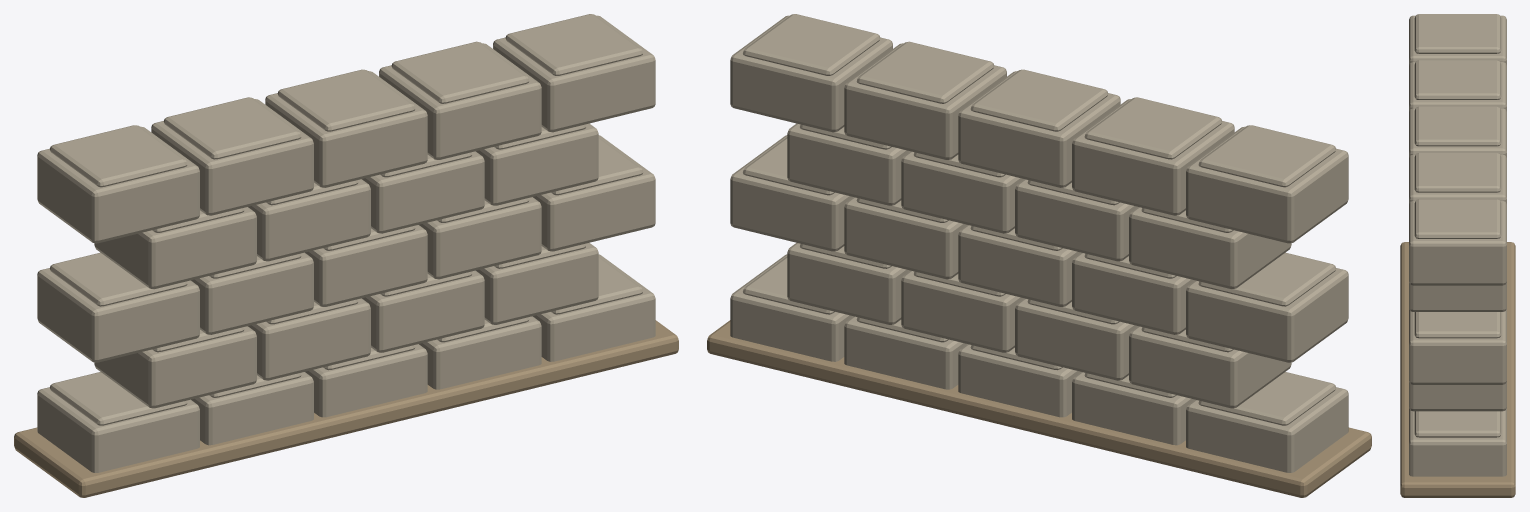
File: sandbag_wall.fbx
3 views of the same model, side by side, from view 1: azimuth 30°, elevation 25°; view 2: azimuth 150°, elevation 25°; view 3: azimuth 270°, elevation 25° (orthographic). The views are drawn at different scales.
Visible parts, largest first — view 1: sandbag_wall; view 2: sandbag_wall; view 3: sandbag_wall.
Part boxes in pixels (x1,y1,x2,y2): sandbag_wall: [14, 14, 678, 497]; sandbag_wall: [707, 14, 1371, 497]; sandbag_wall: [1400, 14, 1515, 497].
Bounding box in the file's own units: 2 × 0.975 × 0.4.
